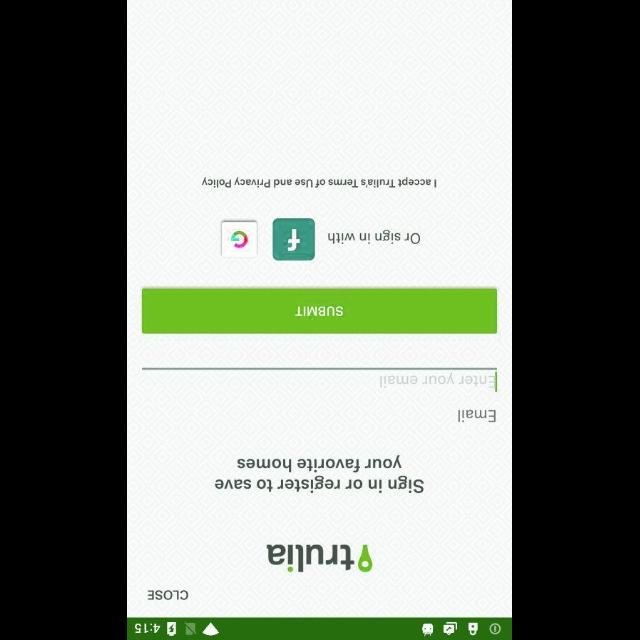icon: (273, 218, 315, 260), (222, 221, 258, 257)
image: (267, 544, 373, 572)
input: (142, 367, 498, 391)
text: (216, 455, 424, 493), (202, 176, 438, 188), (380, 372, 494, 388), (329, 230, 421, 244), (458, 410, 496, 422), (148, 589, 188, 599)
textbutton: (142, 288, 498, 334)
uppertaskbar: (128, 617, 512, 639)
